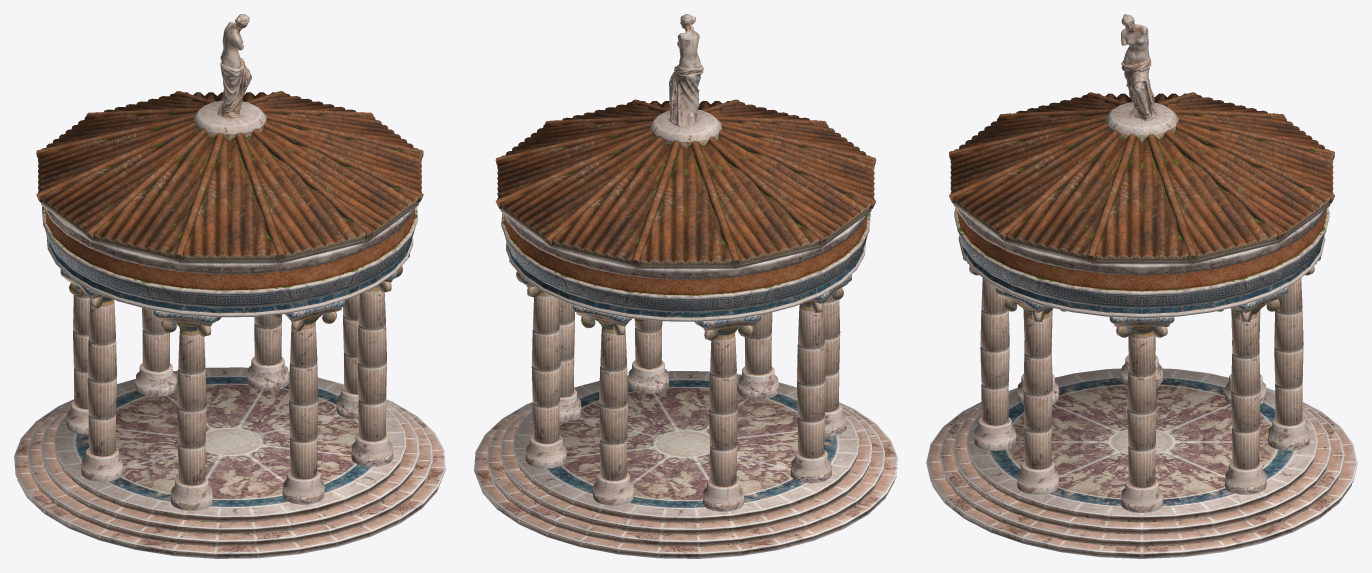
3 views of the same model, side by side, from view 1: azimuth 30°, elevation 25°; view 2: azimuth 150°, elevation 25°; view 3: azimuth 270°, elevation 25° (orthographic).
Visible parts, largest first — view 1: toit_low, socle_low, colonnes_low, frontispice_low, venusDeMilo; view 2: toit_low, socle_low, colonnes_low, frontispice_low, venusDeMilo; view 3: toit_low, socle_low, colonnes_low, frontispice_low, venusDeMilo.
Part boxes in pixels (x1=…): toit_low: x1=36, y1=91, x2=423, y2=263; socle_low: x1=14, y1=367, x2=445, y2=558; colonnes_low: x1=60, y1=254, x2=409, y2=510; frontispice_low: x1=42, y1=206, x2=417, y2=317; venusDeMilo: x1=217, y1=14, x2=251, y2=120; toit_low: x1=495, y1=99, x2=876, y2=268; socle_low: x1=474, y1=371, x2=897, y2=558; colonnes_low: x1=509, y1=259, x2=851, y2=511; frontispice_low: x1=501, y1=212, x2=870, y2=321; venusDeMilo: x1=668, y1=14, x2=703, y2=126; toit_low: x1=949, y1=92, x2=1334, y2=264; socle_low: x1=926, y1=368, x2=1357, y2=558; colonnes_low: x1=963, y1=256, x2=1320, y2=512; frontispice_low: x1=951, y1=186, x2=1332, y2=318; venusDeMilo: x1=1121, y1=14, x2=1157, y2=120.
Bounding box in the file's own units: 11.74 × 13.71 × 11.74.
6 materials, 6 textured.
